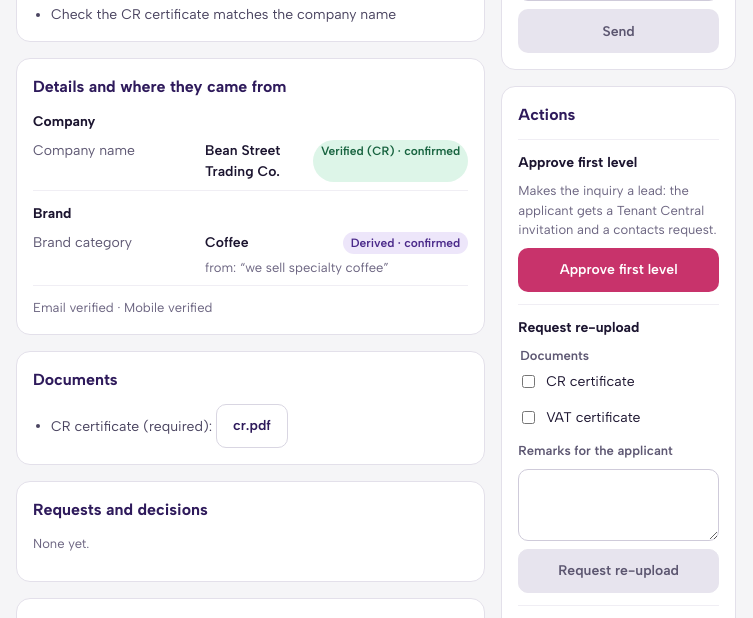
Reviewer console › applies an action and shows the updated case
The image size is (753, 618).
(page scrolled)
Click the button "Approve first level" at [619, 270], box [518, 248, 719, 292]
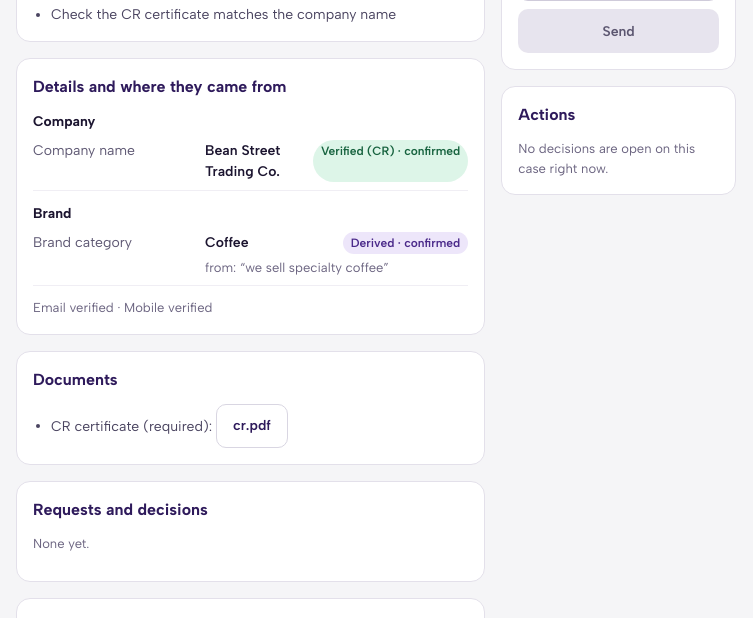
Now the text "No decisions are open on this case right now." is shown, box [518, 139, 719, 178]
